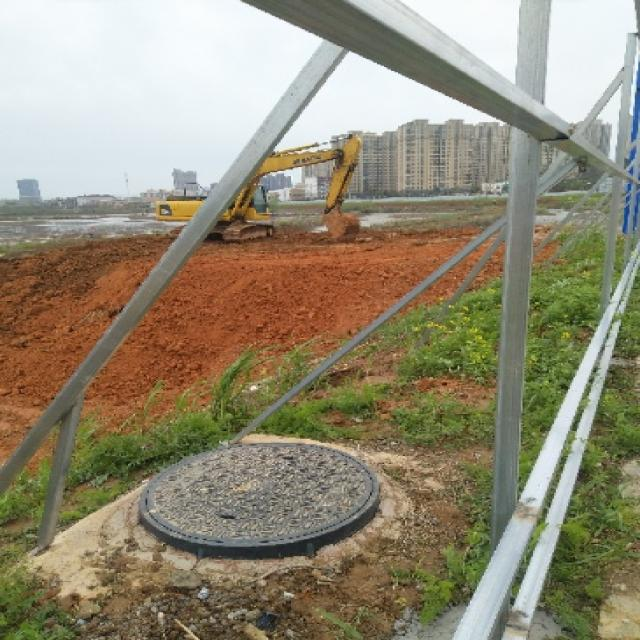Good: (136, 437, 386, 552)
